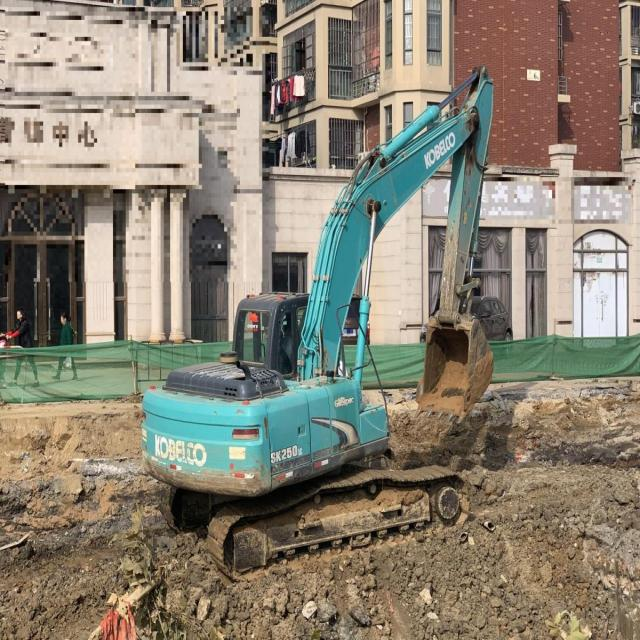excavator: (138, 59, 530, 583)
